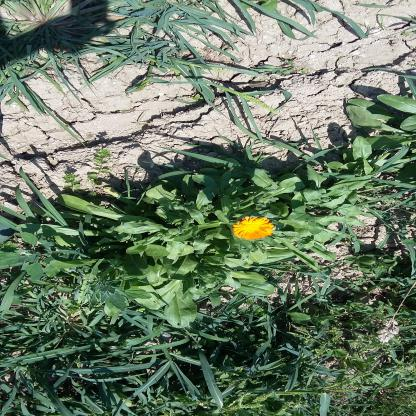marigold: (216, 142, 240, 184)
